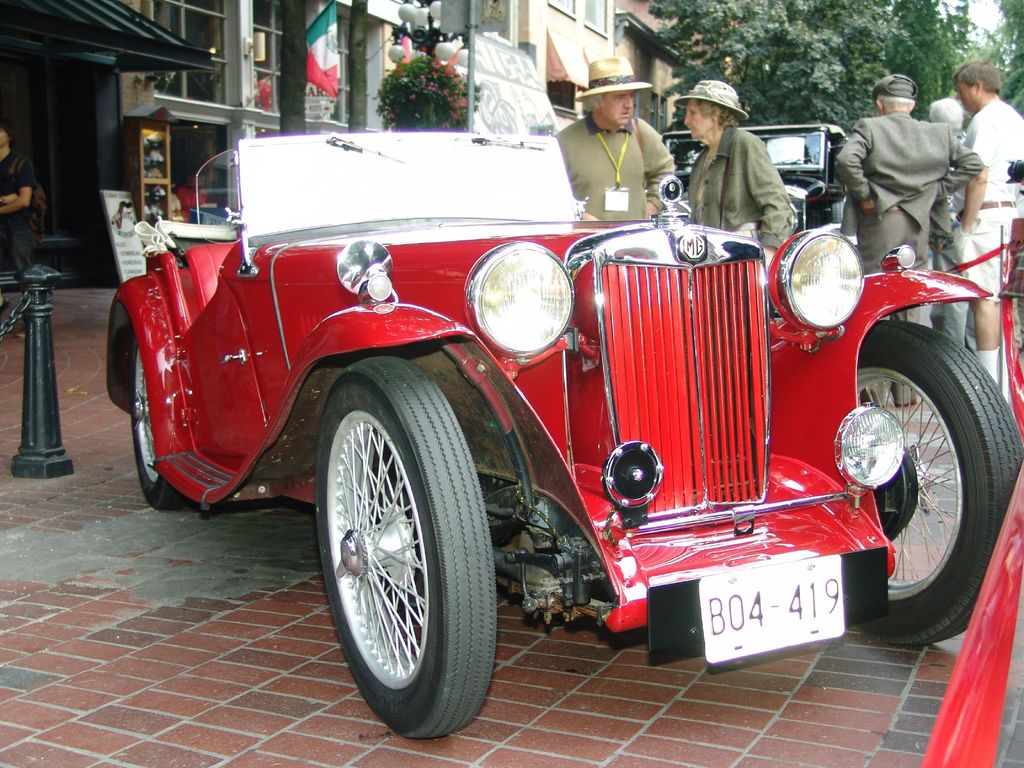Tree: (647, 0, 1024, 147)
